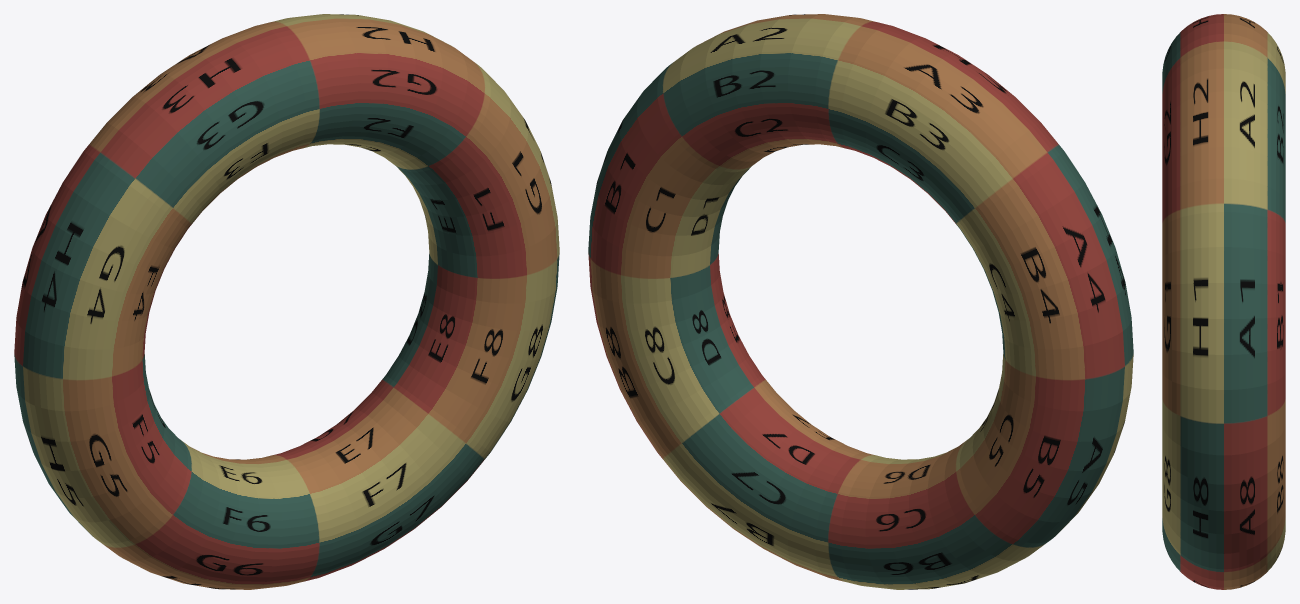
The model's file is texture_torus_R21_r17.glb.
3 views of the same model, side by side, from view 1: azimuth 30°, elevation 25°; view 2: azimuth 150°, elevation 25°; view 3: azimuth 270°, elevation 25° (orthographic). The views are drawn at different scales.
Visible parts, largest first — view 1: world; view 2: world; view 3: world.
Boxes of the visible parts, x1=… form: world: x1=14, y1=14, x2=559, y2=589; world: x1=588, y1=14, x2=1133, y2=589; world: x1=1162, y1=14, x2=1285, y2=589.
Size of the model in its own units: 30.53 by 30.47 by 6.52.
1 material, 1 textured.
